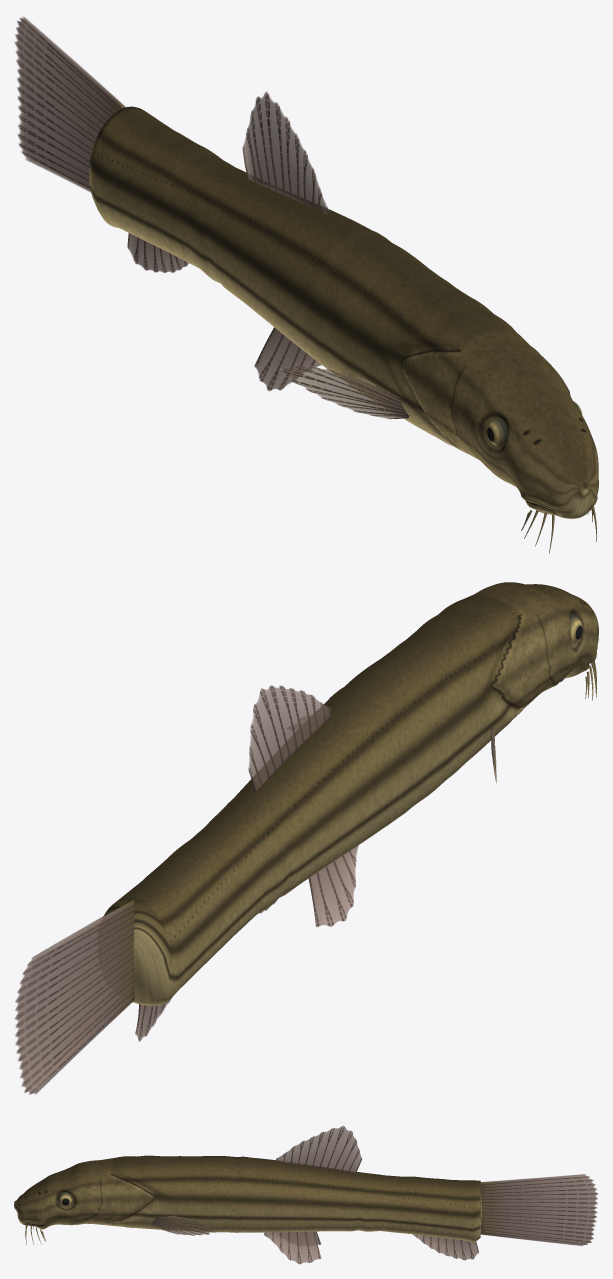
Rendered from piskorz.glb.
3 renders of one model, top to bottom at view 1: azimuth 30°, elevation 25°; view 2: azimuth 150°, elevation 25°; view 3: azimuth 270°, elevation 25°, orthographic. The views are drawn at different scales.
Parts seen in each view (by area): view 1: Body, FinCaudal, FinDorsal1, FinPectoral, FinPelvic, FinAnal; view 2: Body, FinCaudal, FinDorsal1, FinPelvic, FinAnal; view 3: Body, FinCaudal, FinDorsal1, FinPelvic, FinAnal, FinPectoral.
Part boxes in pixels (x1=…): Body: x1=89, y1=106, x2=598, y2=518; FinCaudal: x1=14, y1=16, x2=125, y2=192; FinDorsal1: x1=242, y1=91, x2=328, y2=214; FinPectoral: x1=280, y1=365, x2=409, y2=419; FinPelvic: x1=254, y1=327, x2=321, y2=391; FinAnal: x1=127, y1=233, x2=188, y2=272; Body: x1=103, y1=582, x2=598, y2=1005; FinCaudal: x1=14, y1=899, x2=134, y2=1094; FinDorsal1: x1=248, y1=685, x2=332, y2=792; FinPelvic: x1=260, y1=845, x2=358, y2=927; FinAnal: x1=135, y1=999, x2=170, y2=1041; Body: x1=14, y1=1155, x2=481, y2=1242; FinCaudal: x1=480, y1=1174, x2=598, y2=1245; FinDorsal1: x1=276, y1=1125, x2=361, y2=1172; FinPelvic: x1=264, y1=1231, x2=321, y2=1264; FinAnal: x1=412, y1=1234, x2=478, y2=1260; FinPectoral: x1=151, y1=1215, x2=215, y2=1235.
Size of the model in its own units: 0.2166 by 0.2558 by 1.
9 materials, 8 textured.
